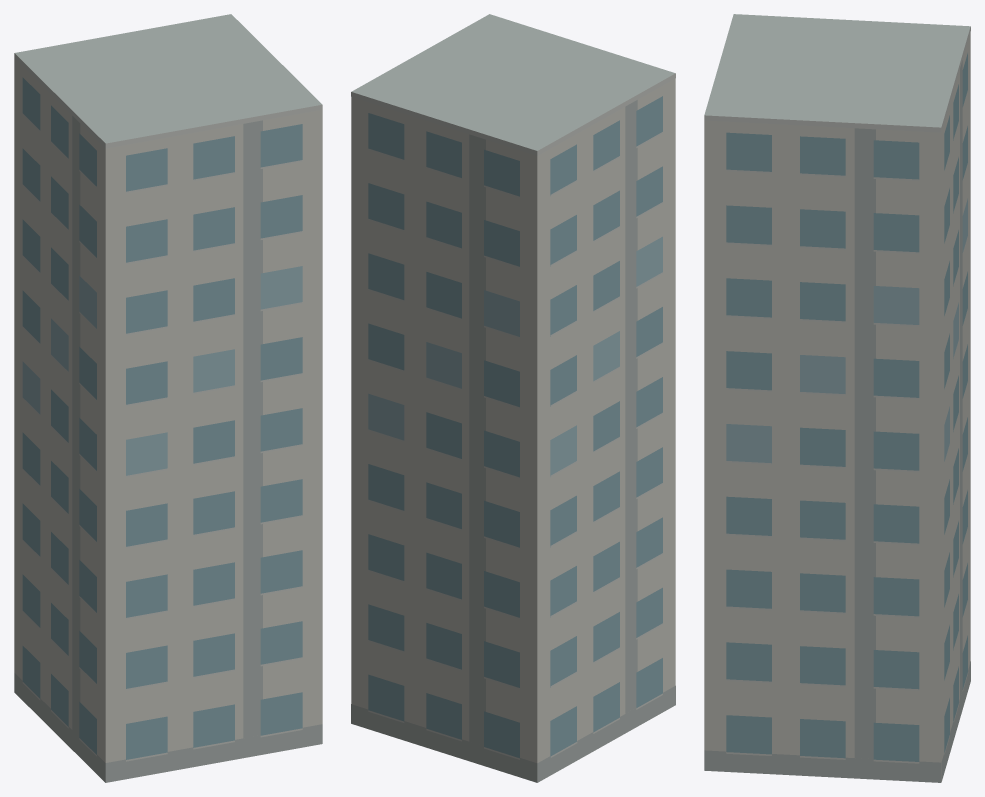
File: residential-ceb9a993-e2cf-429f-9dc9-f78d99db5c67.glb
3 renders of one model, left to right at view 1: azimuth 30°, elevation 25°; view 2: azimuth 150°, elevation 25°; view 3: azimuth 270°, elevation 25°, orthographic. The views are drawn at different scales.
Visible parts, largest first — view 1: residential-ceb9a993-e2cf-429f-9dc9-f78d99db5c67.tmp; view 2: residential-ceb9a993-e2cf-429f-9dc9-f78d99db5c67.tmp; view 3: residential-ceb9a993-e2cf-429f-9dc9-f78d99db5c67.tmp.
Part boxes in pixels (x1,y1,x2,y2): residential-ceb9a993-e2cf-429f-9dc9-f78d99db5c67.tmp: (14, 14, 322, 782); residential-ceb9a993-e2cf-429f-9dc9-f78d99db5c67.tmp: (351, 14, 675, 782); residential-ceb9a993-e2cf-429f-9dc9-f78d99db5c67.tmp: (704, 14, 970, 782).
Bounding box in the file's own units: 11.53 × 31 × 11.43.
